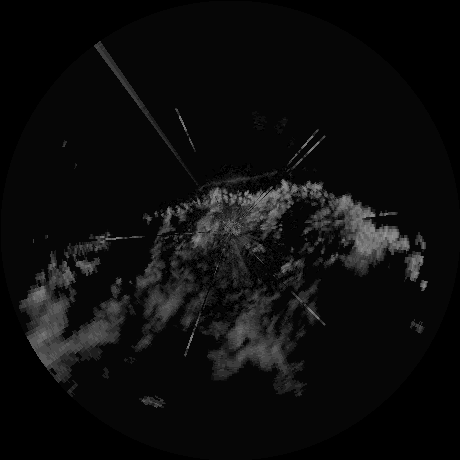frontgust: (200, 170, 283, 189)
